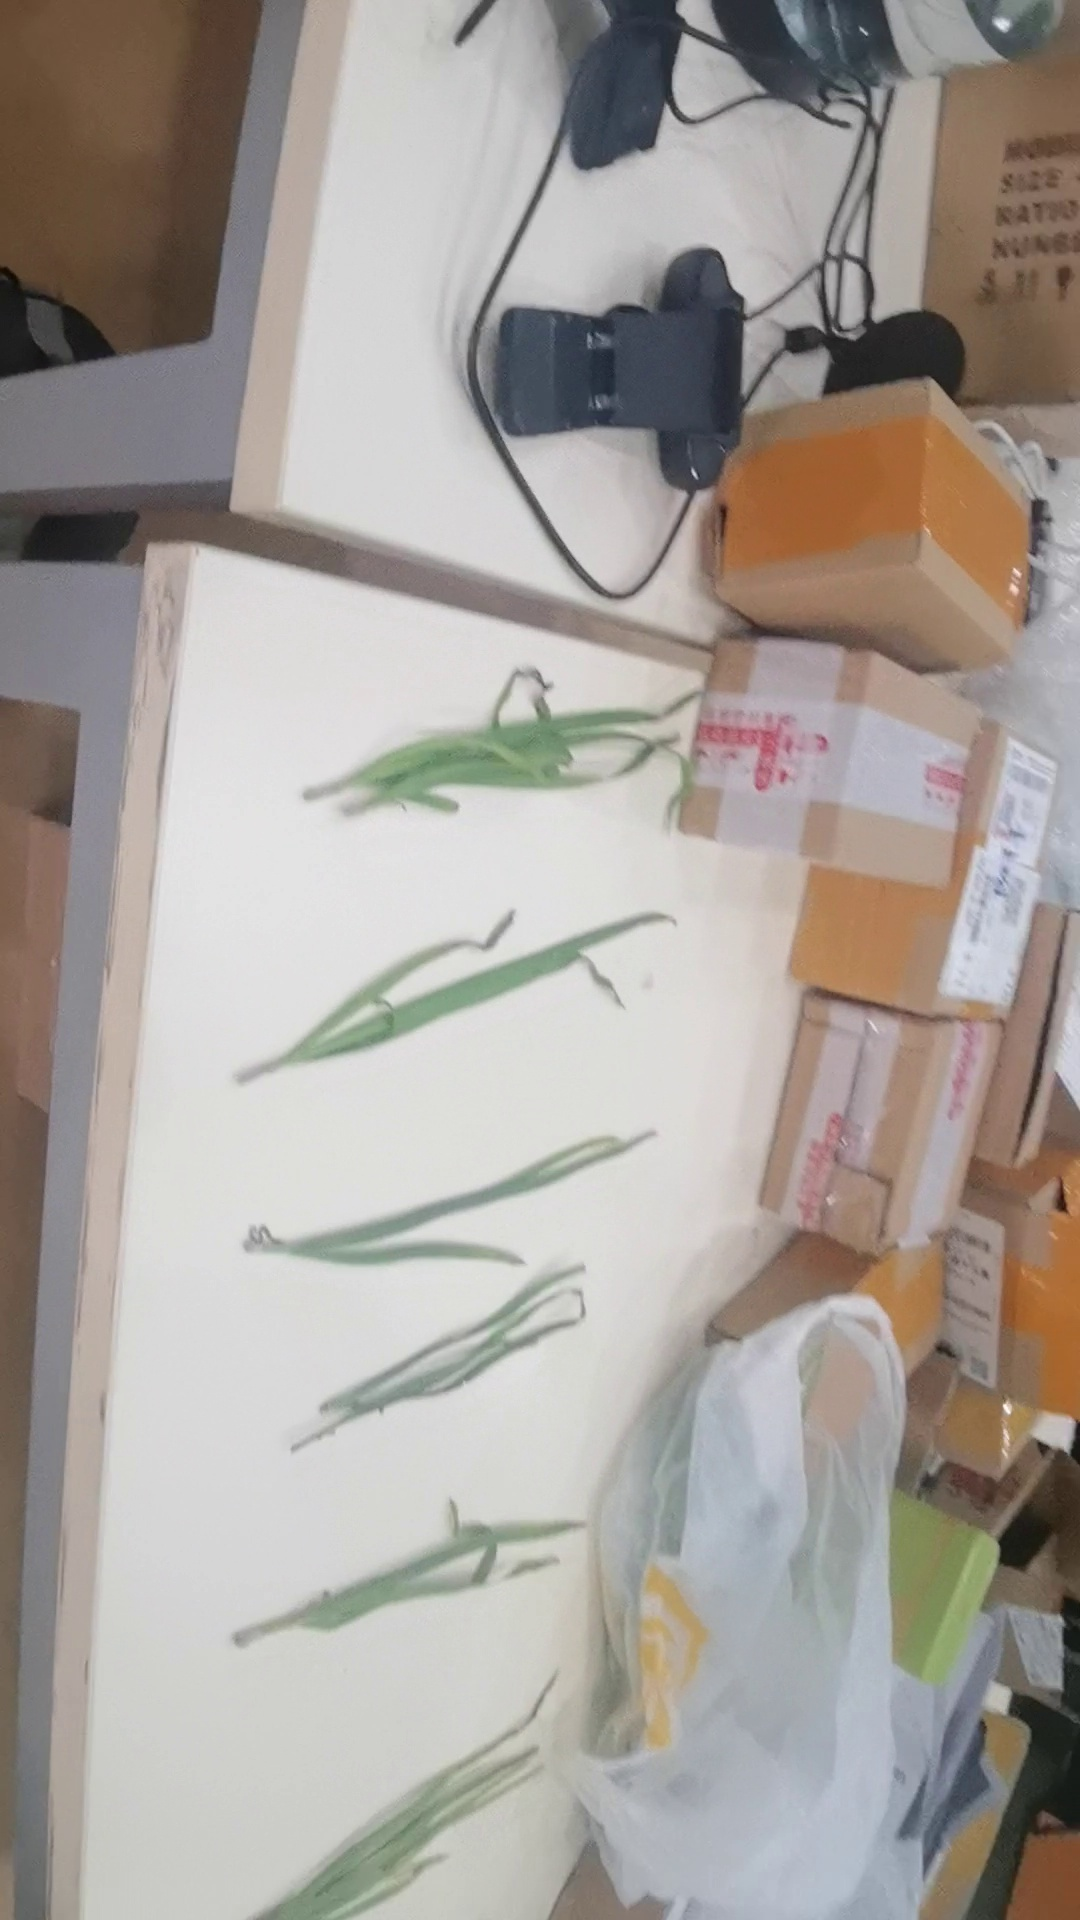chives: (206, 895, 704, 1100), (258, 1669, 603, 1920), (216, 1127, 692, 1288), (280, 678, 738, 839), (212, 1499, 634, 1673), (265, 1286, 620, 1464)
